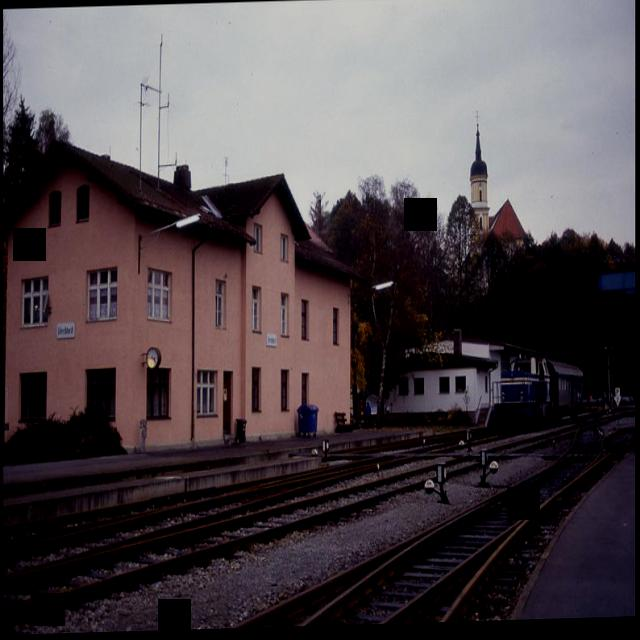locomotive: (489, 347, 556, 440)
